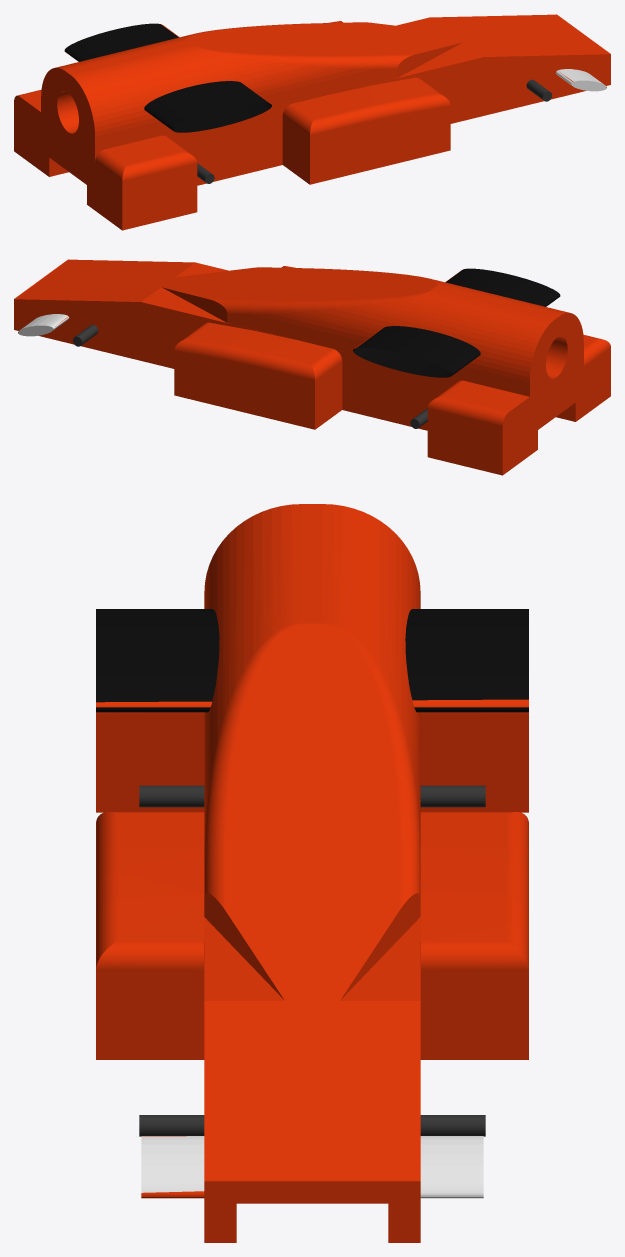
File: f1_car_body.dae
3 renders of one model, top to bottom at view 1: azimuth 30°, elevation 25°; view 2: azimuth 150°, elevation 25°; view 3: azimuth 270°, elevation 25°, orthographic. The views are drawn at different scales.
Visible parts, largest first — view 1: autó, Cylinder; view 2: autó, Cylinder; view 3: autó, Cylinder.001, Cylinder.
Part boxes in pixels (x1=…): autó: x1=14, y1=14, x2=610, y2=230; Cylinder: x1=526, y1=79, x2=552, y2=101; autó: x1=14, y1=259, x2=610, y2=475; Cylinder: x1=72, y1=324, x2=98, y2=346; autó: x1=96, y1=504, x2=528, y2=1242; Cylinder.001: x1=139, y1=785, x2=485, y2=807; Cylinder: x1=139, y1=1115, x2=485, y2=1136.
Size of the model in its own units: 0.1719 by 0.0625 by 0.0375.
